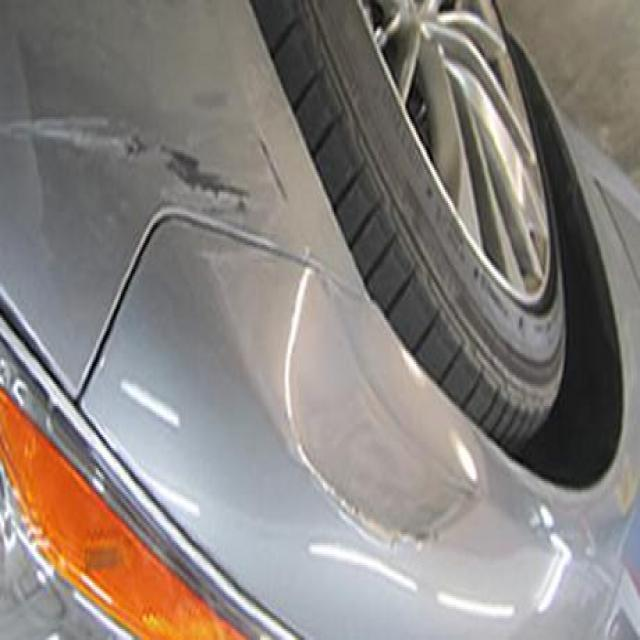scratch: (0, 72, 262, 213)
